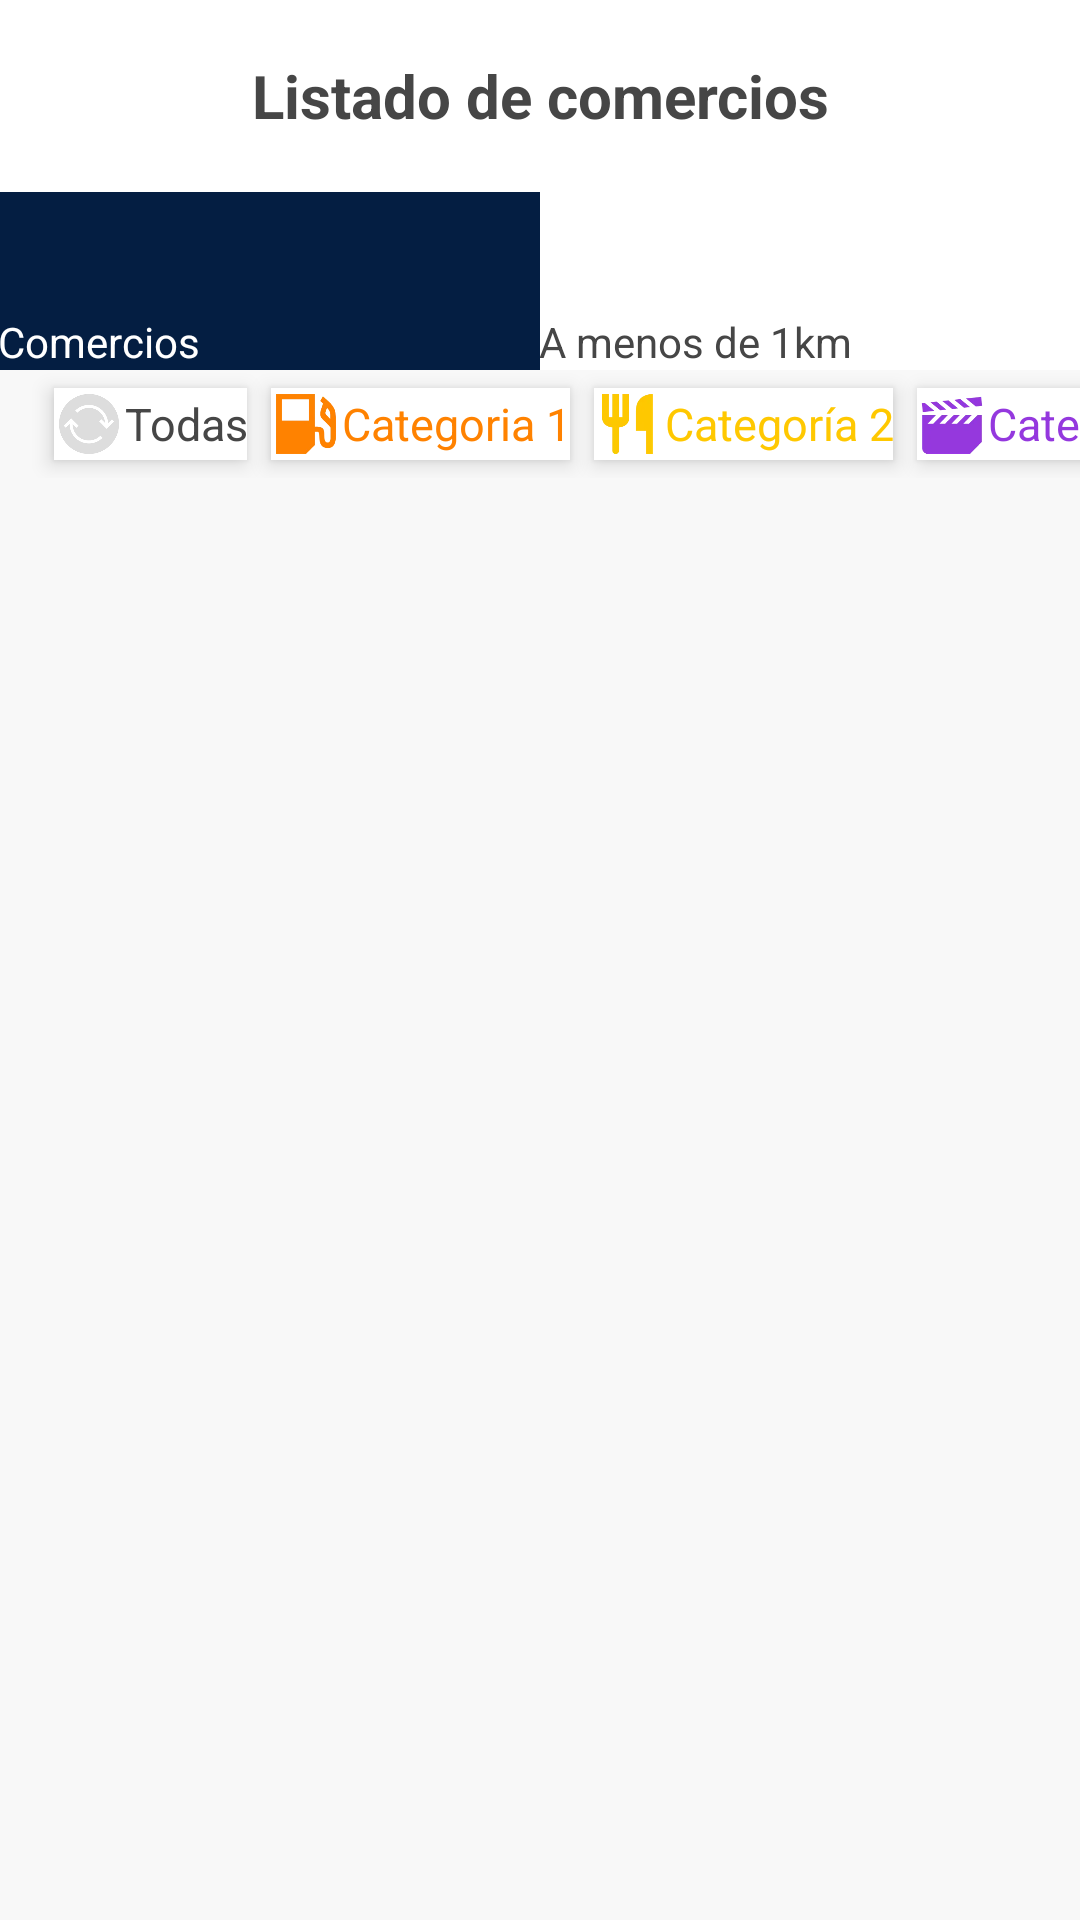

Screen size 1080×1920. Icon name, then its center in pixels as [x,y]:
catering: [627,424]
ees: [306,424]
leisure: [952,425]
